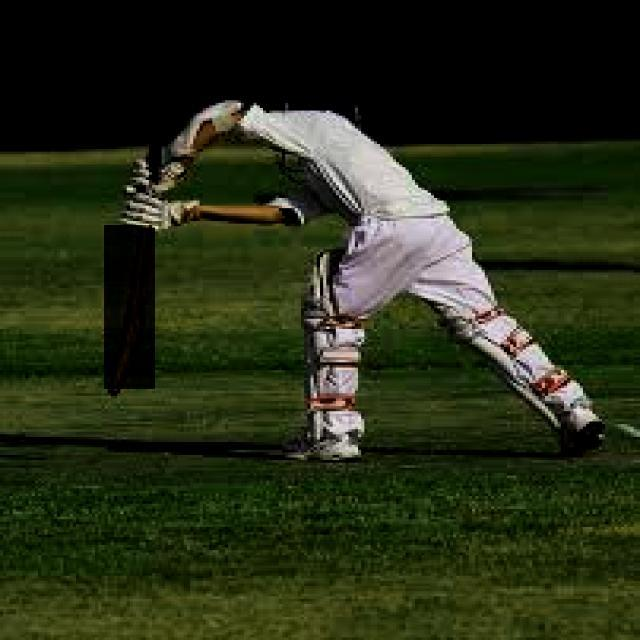bat: (108, 223, 155, 393)
